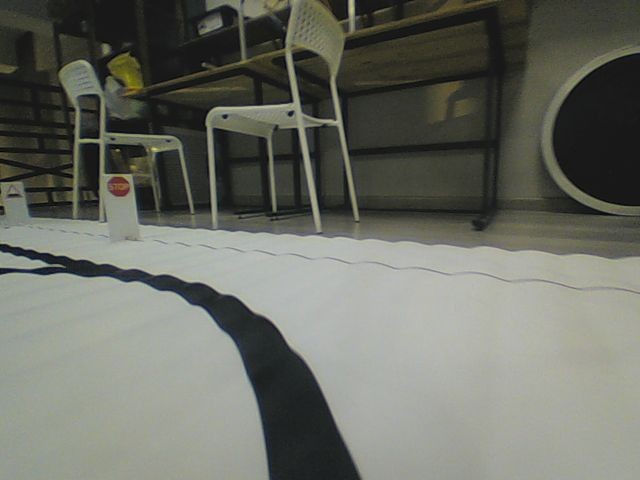Nerov: (4, 184, 21, 199)
Stop: (106, 176, 131, 197)
